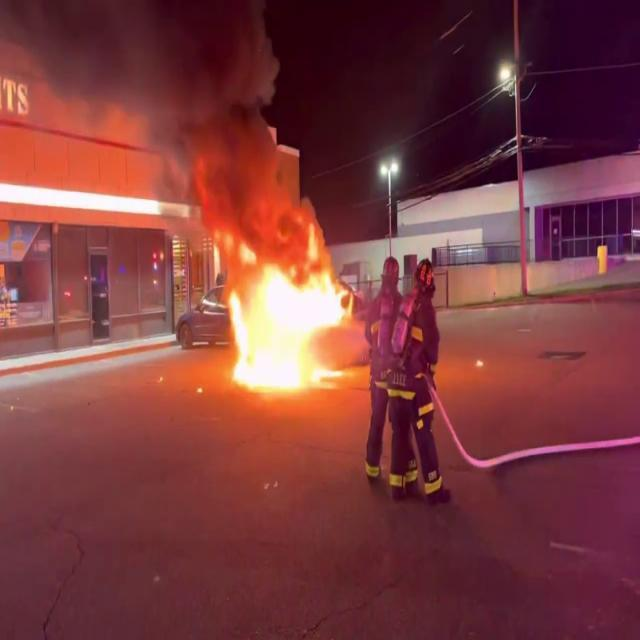Fire: (222, 238, 356, 394)
Smoke: (0, 0, 314, 215)
